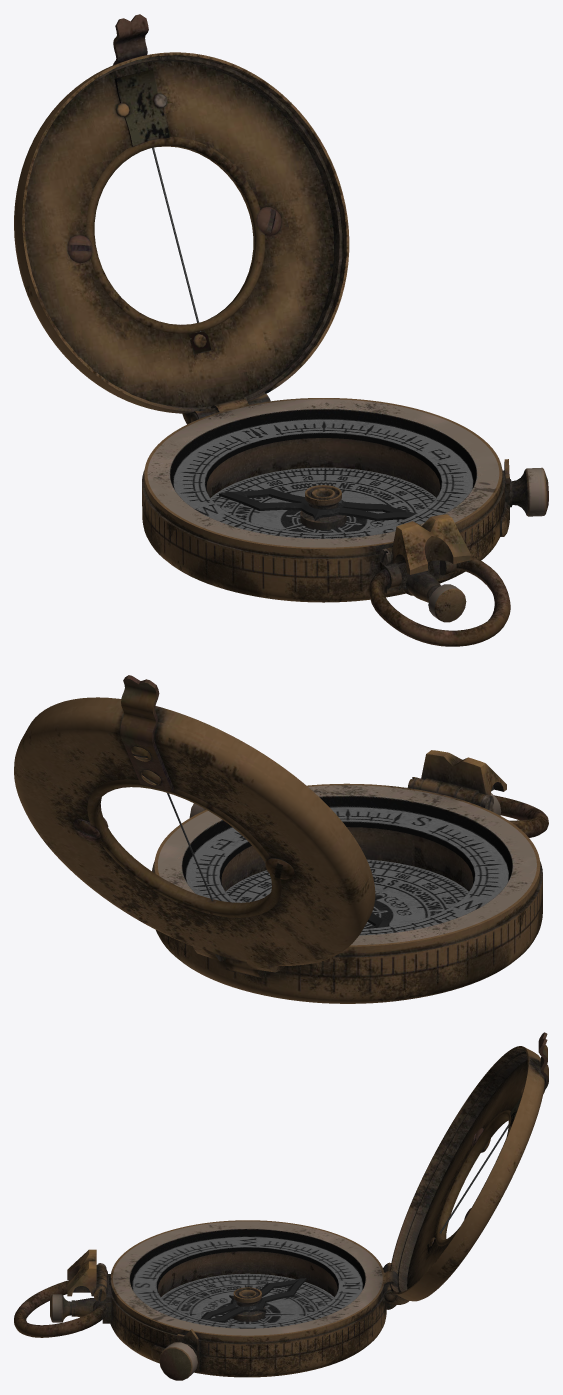
File: compass.jpg-BA26HwF9.glb
The picture shows the model from 3 angles, top to bottom: view 1: azimuth 30°, elevation 25°; view 2: azimuth 150°, elevation 25°; view 3: azimuth 270°, elevation 25°; orthographic projection. The views are drawn at different scales.
Visible parts, largest first — view 1: seadogs_compass_lid, seadogs_compass, seadogs_compass_needle; view 2: seadogs_compass_lid, seadogs_compass; view 3: seadogs_compass, seadogs_compass_lid, seadogs_compass_needle.
Boxes of the visible parts, x1,y1,x2,y2 form: seadogs_compass_lid: [14, 14, 349, 424]; seadogs_compass: [142, 398, 548, 646]; seadogs_compass_needle: [219, 488, 415, 520]; seadogs_compass_lid: [14, 675, 375, 972]; seadogs_compass: [152, 750, 548, 1003]; seadogs_compass: [14, 1220, 397, 1380]; seadogs_compass_lid: [382, 1032, 548, 1305]; seadogs_compass_needle: [201, 1278, 306, 1322].
Size of the model in its own units: 0.0813 by 0.0866 by 0.1441.
Materials: 1 (1 with a texture image).
